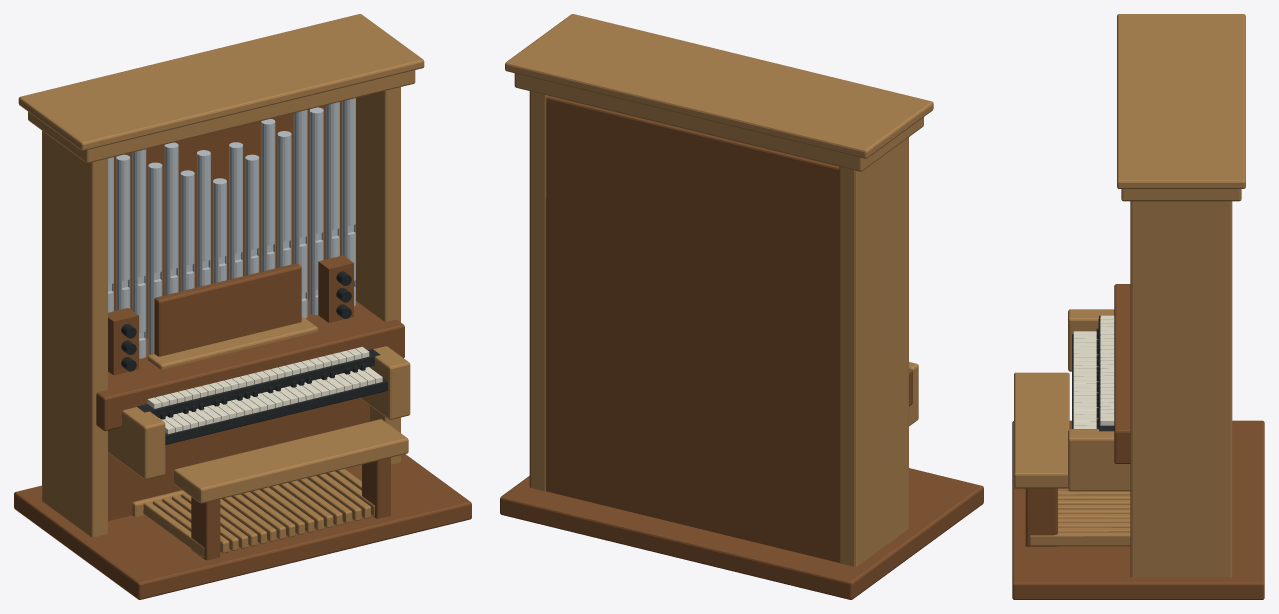
File: NEW_RECOVERY_133_LOD1.fbx
3 renders of one model, left to right at view 1: azimuth 30°, elevation 25°; view 2: azimuth 150°, elevation 25°; view 3: azimuth 270°, elevation 25°, orthographic. The views are drawn at different scales.
Visible parts, largest first — view 1: Compact pipe organ static display; view 2: Compact pipe organ static display; view 3: Compact pipe organ static display.
Boxes of the visible parts, x1,y1,x2,y2 form: Compact pipe organ static display: (14, 14, 471, 599); Compact pipe organ static display: (500, 14, 983, 599); Compact pipe organ static display: (1012, 14, 1264, 599).
Bounding box in the file's own units: 370 × 235 × 434.
